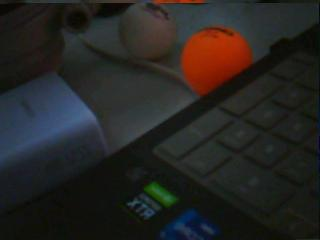oball: (181, 27, 250, 94)
